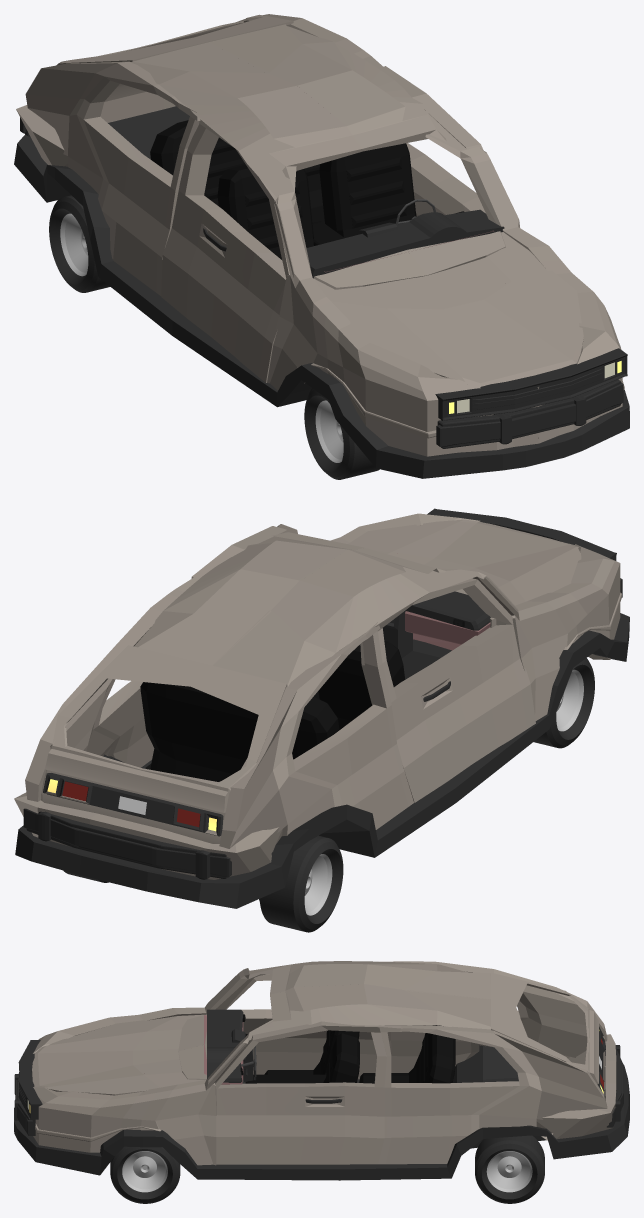
File: EndCarWIP (1).fbx
The picture shows the model from 3 angles, top to bottom: view 1: azimuth 30°, elevation 25°; view 2: azimuth 150°, elevation 25°; view 3: azimuth 270°, elevation 25°; orthographic projection. The views are drawn at different scales.
Visible parts, largest first — view 1: Front, Hood, Base, Back Doors, Doors, FrontSeat, Headlight, Text.009, Bumper, Doors.001, PassSeat, Cylinder.003 (+4 smaller); view 2: Front, Back Doors, Base, Trunk, Doors, BackSeat, Hood, Bumper.001, Cylinder.003, Back, Text.009, PassSeat (+3 smaller); view 3: Front, Back Doors, Doors.001, Base, Hood, Cylinder.002, Trunk, Doors, Cylinder, Back, Text.009, BackSeat (+6 smaller).
Part boxes in pixels (x1,y1,x2,y2): Front: (130, 24, 624, 456); Hood: (313, 232, 583, 387); Base: (14, 106, 629, 478); Back Doors: (25, 14, 383, 295); Doors: (161, 119, 289, 382); FrontSeat: (319, 143, 416, 237); Headlight: (435, 348, 627, 420); Text.009: (306, 209, 504, 278); Bumper: (436, 379, 623, 448); Doors.001: (379, 66, 485, 216); PassSeat: (217, 165, 313, 259); Cylinder.003: (49, 195, 110, 292); Front: (134, 513, 621, 720); Back Doors: (25, 577, 413, 848); Base: (15, 613, 629, 908); Trunk: (41, 645, 286, 843); Doors: (360, 578, 535, 802); BackSeat: (140, 682, 339, 781); Hood: (348, 519, 581, 627); Bumper.001: (23, 808, 231, 879); Cylinder.003: (259, 835, 343, 932); Back: (14, 792, 282, 879); Text.009: (382, 553, 490, 658); PassSeat: (318, 641, 405, 729); Front: (33, 961, 490, 1165); Back Doors: (378, 961, 607, 1164); Doors.001: (215, 1021, 386, 1164); Base: (14, 1045, 629, 1180); Hood: (32, 1014, 204, 1095); Cylinder.002: (475, 1135, 544, 1203); Trunk: (491, 972, 605, 1095); Doors: (225, 974, 376, 1079); Cylinder: (110, 1146, 180, 1203); Back: (536, 1034, 616, 1140); Text.009: (144, 1009, 253, 1084); BackSeat: (359, 1025, 455, 1083).
Size of the model in its own units: 189 by 156 by 488.
